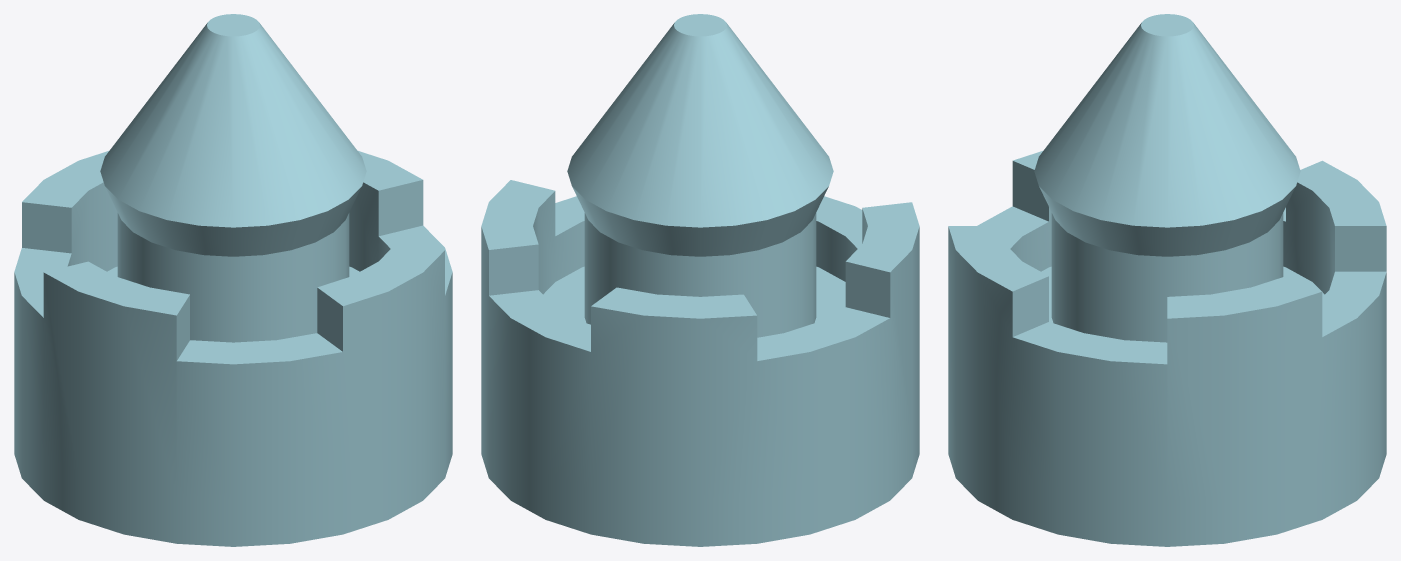
Rendered from towerround_roofa.fbx.
3 views of the same model, side by side, from view 1: azimuth 30°, elevation 25°; view 2: azimuth 150°, elevation 25°; view 3: azimuth 270°, elevation 25° (orthographic).
Parts seen in each view (by area): view 1: towerRound_roofA; view 2: towerRound_roofA; view 3: towerRound_roofA.
Part boxes in pixels (box(x1,y1,x2,y2)): towerRound_roofA: box(14, 14, 452, 546); towerRound_roofA: box(481, 14, 919, 546); towerRound_roofA: box(948, 14, 1386, 546).
Bounding box in the file's own units: 8.7 × 9.4 × 8.7.
